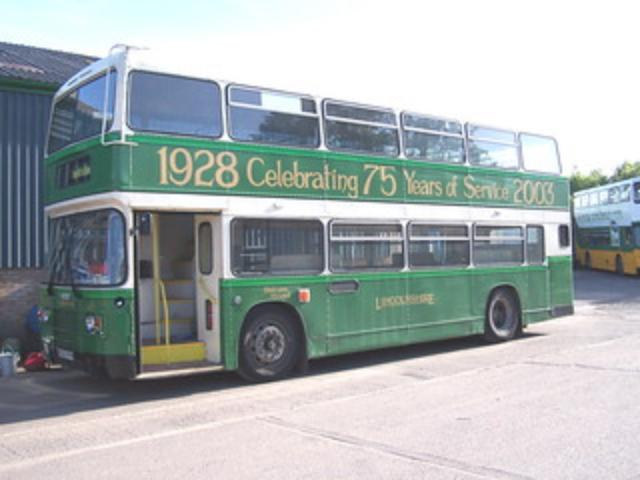bus: (40, 44, 574, 382)
